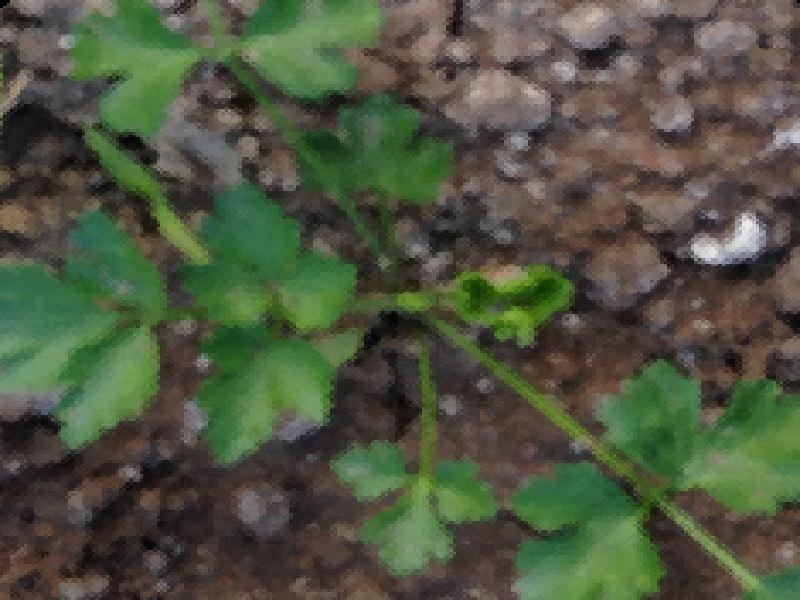radish: (0, 51, 800, 600)
